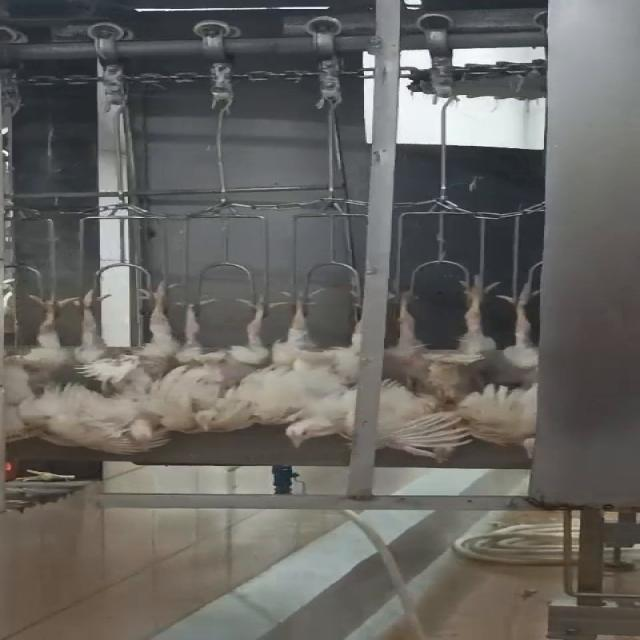chicken: (92, 274, 184, 456), (171, 292, 280, 436), (382, 276, 496, 413), (270, 280, 360, 452), (0, 286, 85, 446), (494, 279, 560, 461)
